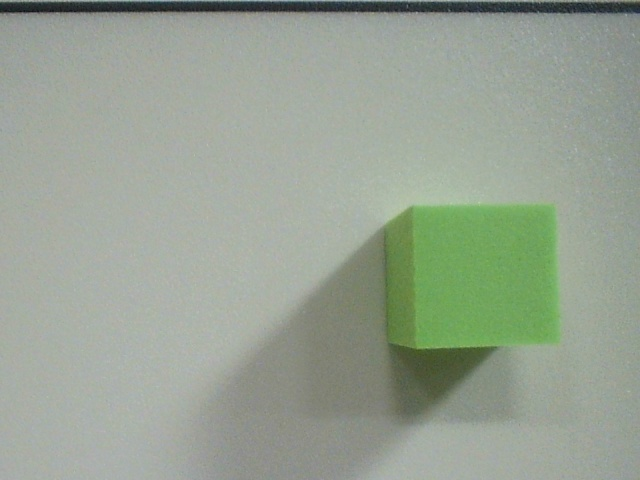greencube: (372, 197, 573, 360)
